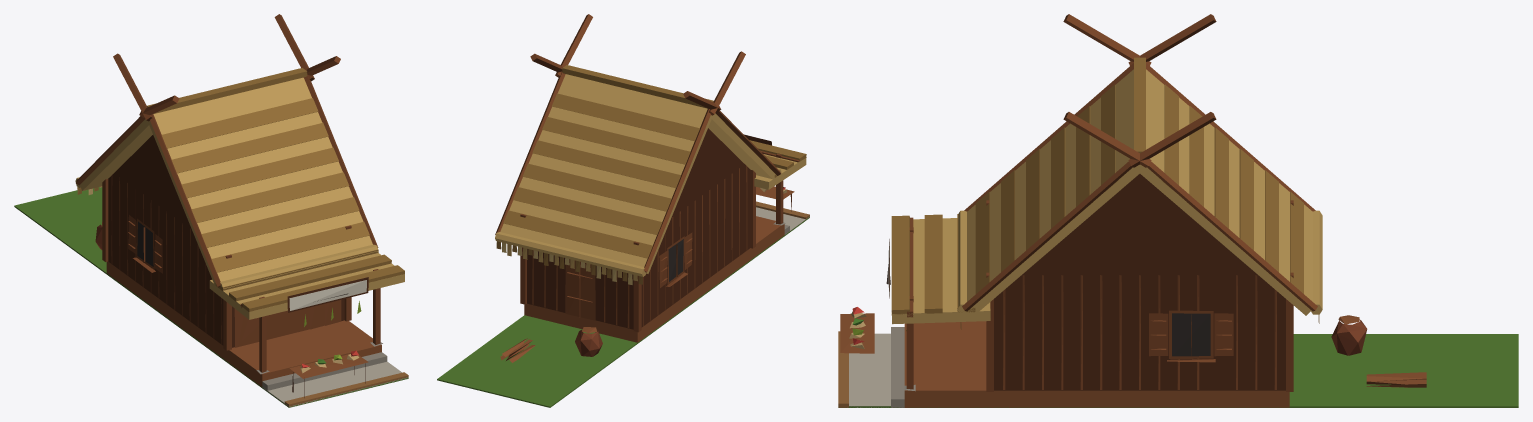
The model's file is bay1_one.glb.
3 renders of one model, left to right at view 1: azimuth 30°, elevation 25°; view 2: azimuth 150°, elevation 25°; view 3: azimuth 270°, elevation 25°, orthographic. The views are drawn at different scales.
Visible parts, largest first — view 1: body, windows; view 2: body, windows; view 3: body, windows.
Boxes of the visible parts, x1,y1,x2,y2 form: body: (14,14,408,407); windows: (137,221,153,266); body: (437,14,809,407); windows: (668,239,683,281); body: (838,14,1518,407); windows: (1172,313,1210,356).
Bounding box in the file's own units: 5.64 × 7.97 × 15.9.
